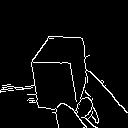cube: (27, 28, 98, 114)
